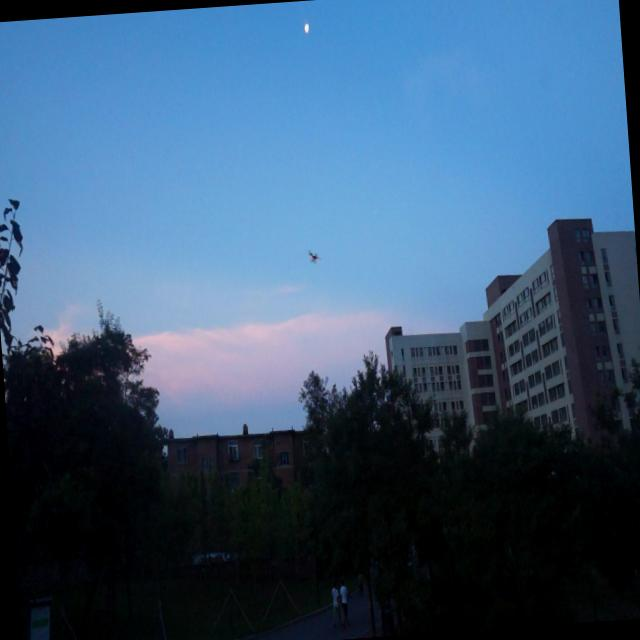drone: (306, 248, 322, 266)
